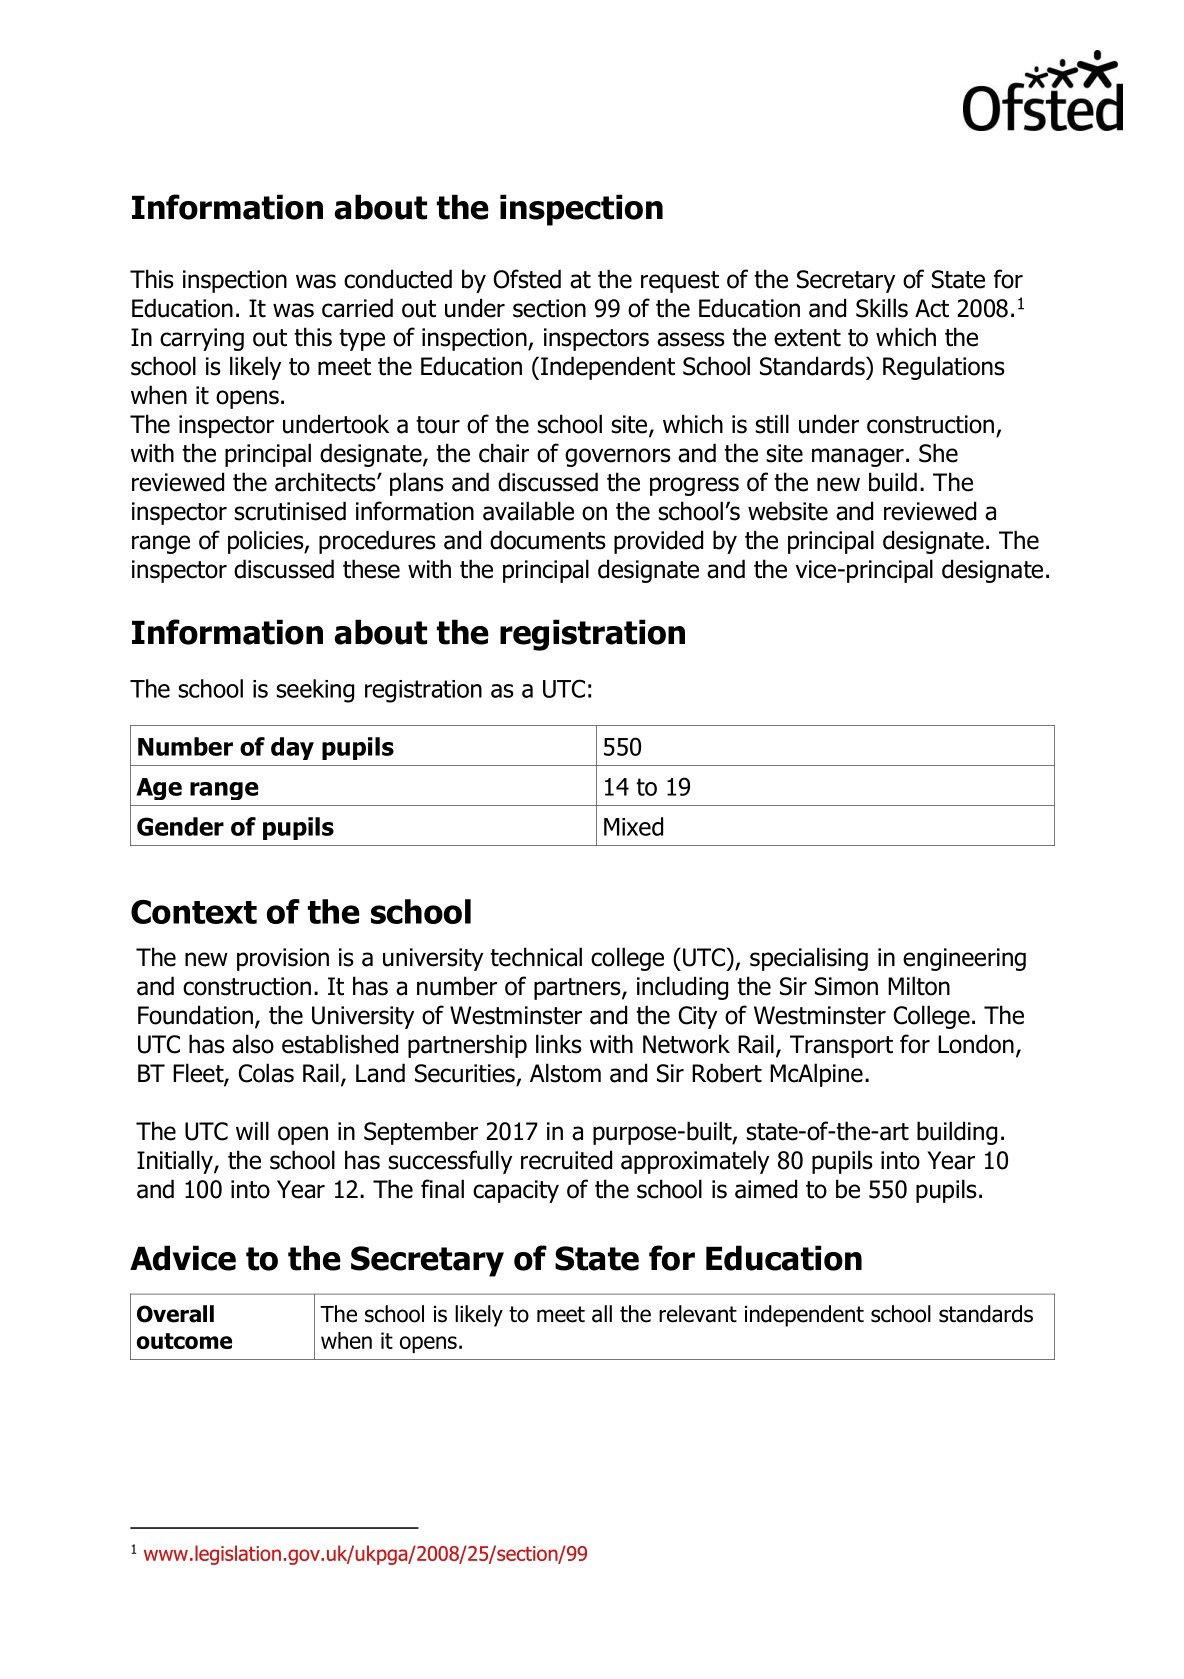full_lined: (128, 724, 1055, 847), (129, 1292, 1055, 1360)
